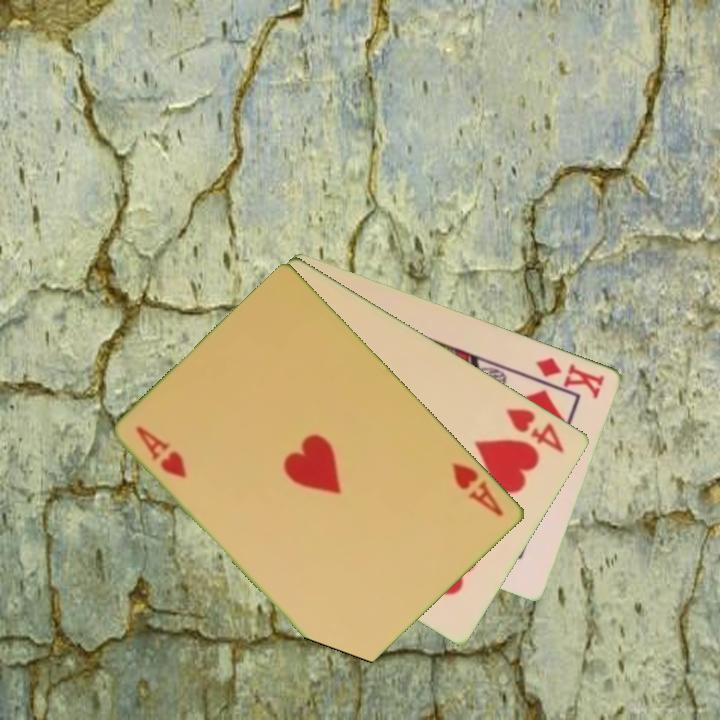4h: (502, 404, 568, 456)
Ah: (448, 459, 507, 519), (132, 422, 190, 481)
Kd: (532, 353, 608, 401)
